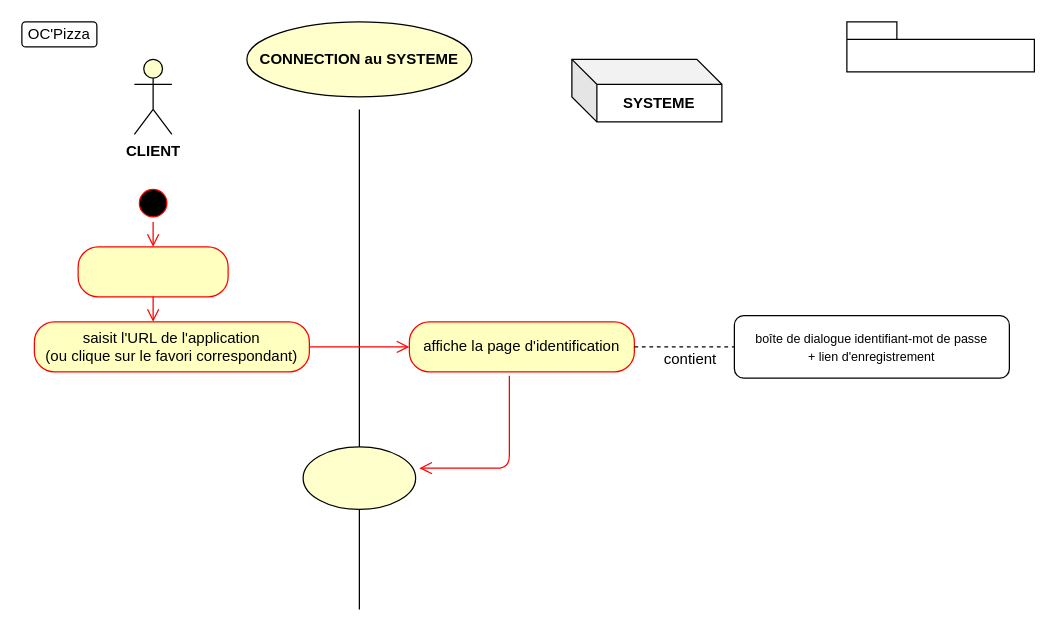
The diagram is 1056 pixels wide and 633 high, and some of its shapes have lost their labels. The shapes that lost their labels are listed below. From the top down, each one's box as (x1, y1, x2, y2) in pixels, then its label:
(846, 21, 1034, 72): Gestion des Commandes
(77, 246, 228, 297): ouvre un navigateur
(302, 446, 416, 509): Identification
